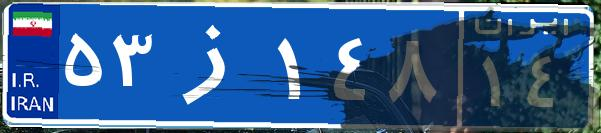1: (273, 28, 330, 110), (475, 38, 525, 113)
3: (110, 28, 158, 105)
4: (330, 28, 385, 110), (525, 38, 570, 115)
5: (57, 26, 110, 107)
8: (385, 28, 445, 110)
ز: (158, 15, 273, 115)
